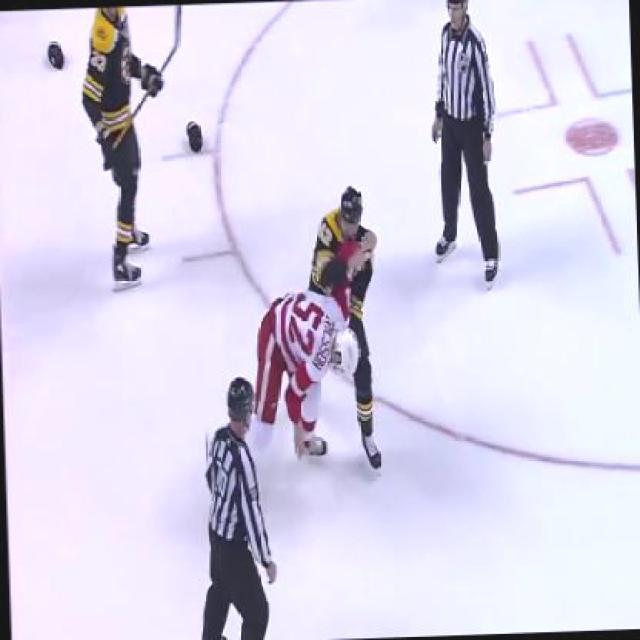fight: (242, 181, 384, 481)
non-fight: (77, 6, 171, 289), (420, 0, 506, 294), (195, 372, 274, 638)
